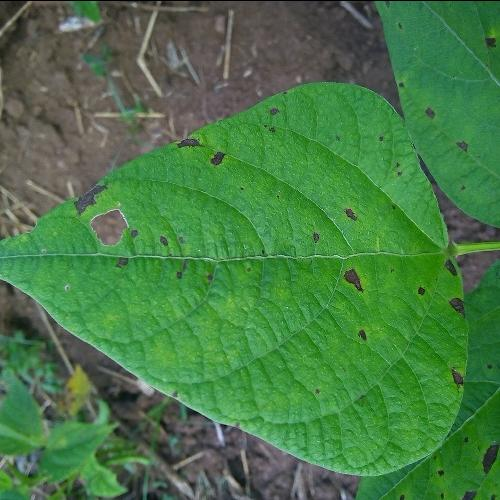hawar: (60, 126, 246, 278), (404, 231, 482, 410), (302, 188, 372, 359), (407, 84, 476, 163), (252, 96, 290, 146)
